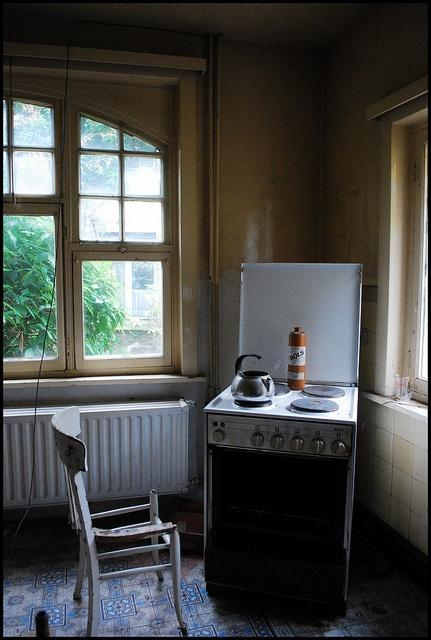Kursi: (49, 403, 188, 639)
